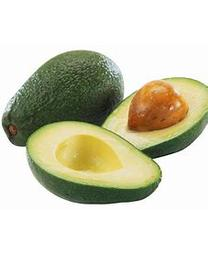avocado: (24, 119, 163, 205), (3, 50, 126, 147), (99, 76, 207, 160)
